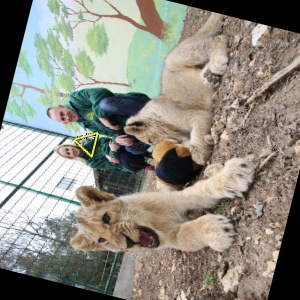triangle: (71, 129, 100, 160)
